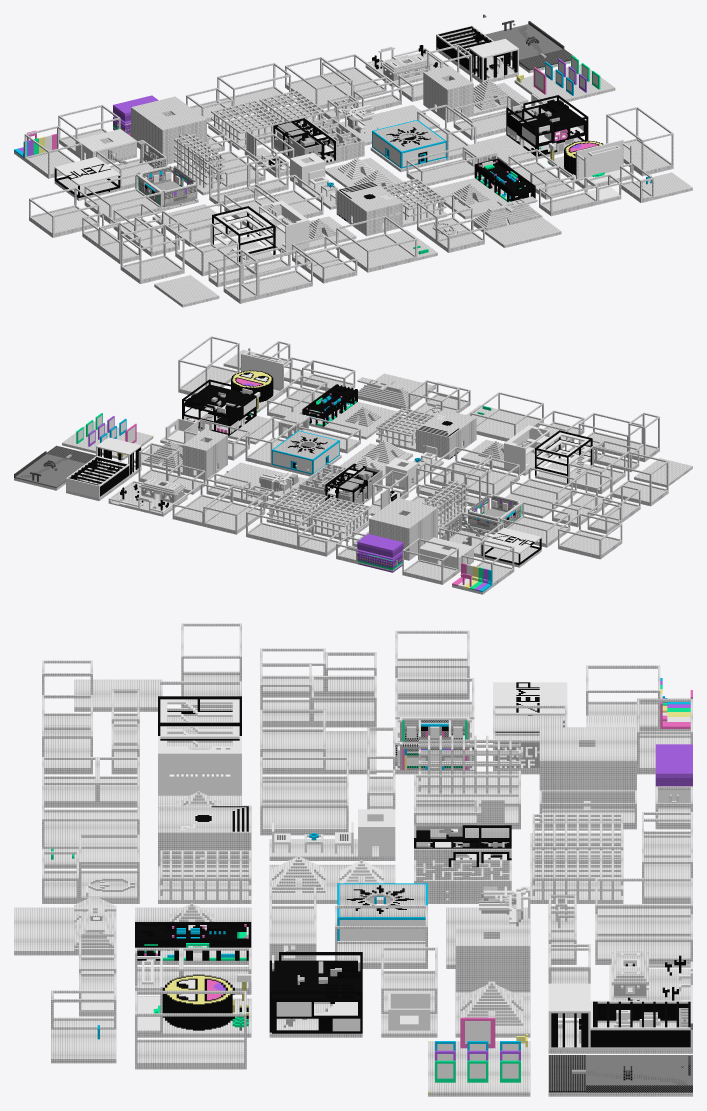
Rendered from DeepSouth-v2.glb.
The picture shows the model from 3 angles, top to bottom: view 1: azimuth 30°, elevation 25°; view 2: azimuth 150°, elevation 25°; view 3: azimuth 270°, elevation 25°; orthographic projection. The views are drawn at different scales.
Parts seen in each view (by area): view 1: solid-voxels_41.001; view 2: solid-voxels_41.001; view 3: solid-voxels_41.001.
Part boxes in pixels (box(x1,y1,x2,y2)): solid-voxels_41.001: box(14, 14, 692, 307); solid-voxels_41.001: box(14, 336, 692, 594); solid-voxels_41.001: box(14, 623, 692, 1096).
Bounding box in the file's own units: 220 × 14.01 × 146.
1 material, 1 textured.
